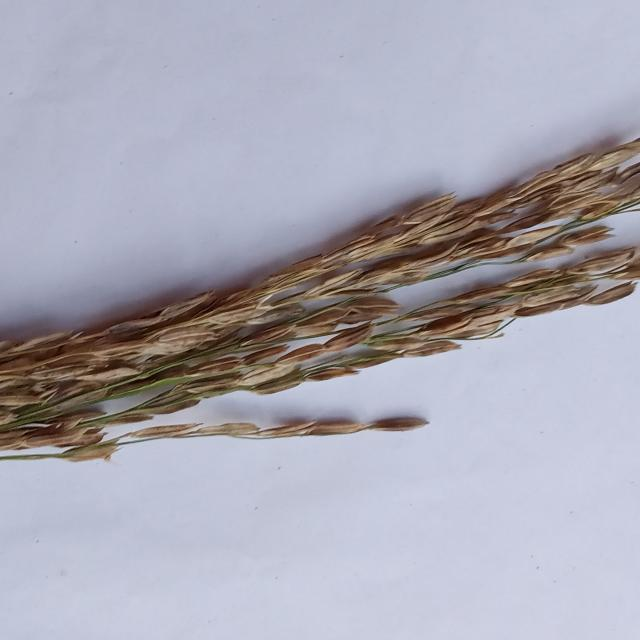Neck_Blast: (4, 136, 640, 416), (164, 243, 640, 415), (9, 407, 429, 460)
